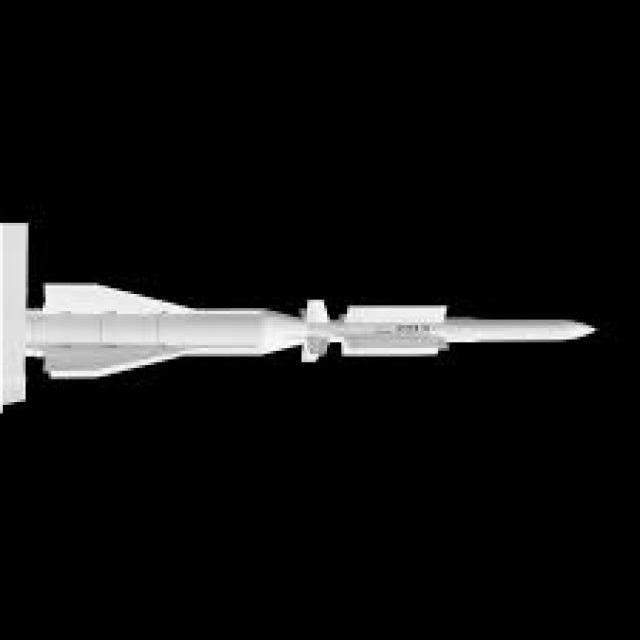Missile: (430, 308, 604, 352)
